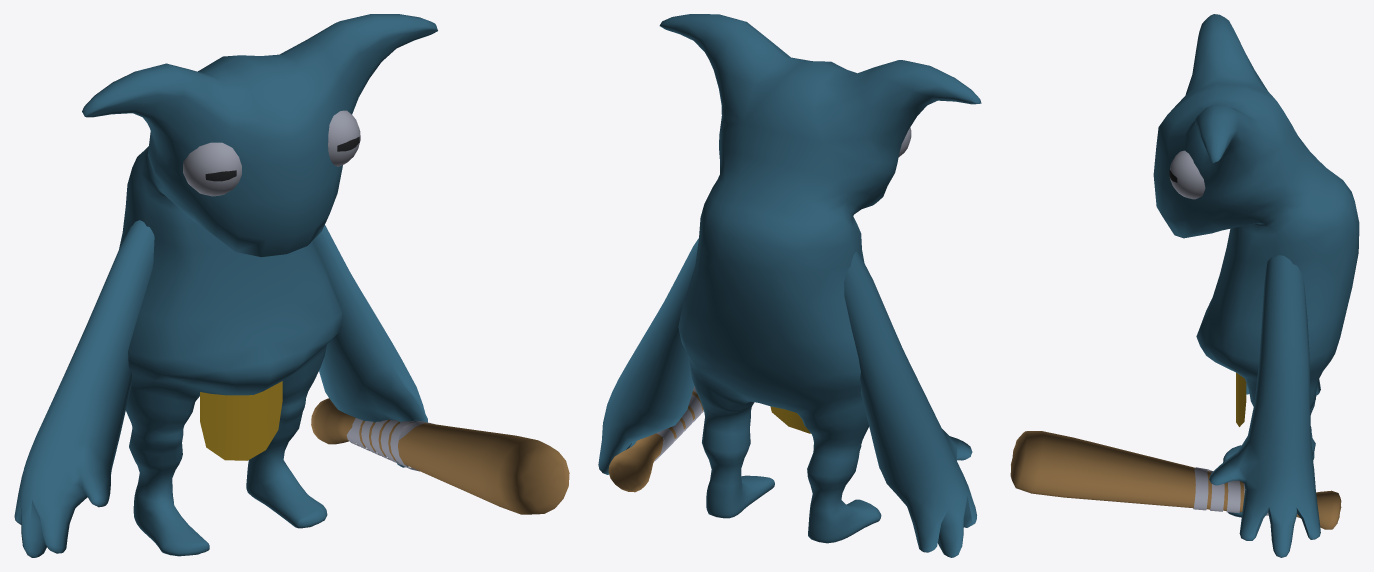
Rendered from BlueDemon.glb.
3 renders of one model, left to right at view 1: azimuth 30°, elevation 25°; view 2: azimuth 150°, elevation 25°; view 3: azimuth 270°, elevation 25°, orthographic. The views are drawn at different scales.
Parts seen in each view (by area): view 1: SK_BlueDemon; view 2: SK_BlueDemon; view 3: SK_BlueDemon.
Part boxes in pixels (x1=…): SK_BlueDemon: x1=14, y1=14, x2=569, y2=557; SK_BlueDemon: x1=598, y1=14, x2=981, y2=557; SK_BlueDemon: x1=1010, y1=14, x2=1359, y2=557.
Size of the model in its own units: 2.34 by 2.84 by 2.16.
Materials: 1 (1 with a texture image).
